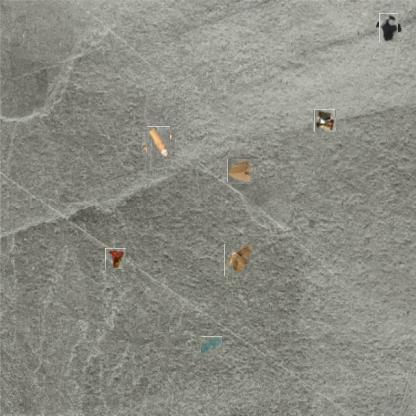dirty: (224, 245, 254, 276), (144, 129, 173, 157), (228, 158, 254, 183), (313, 109, 336, 132), (105, 248, 126, 269)
liquid: (377, 16, 400, 40), (200, 336, 222, 355)
